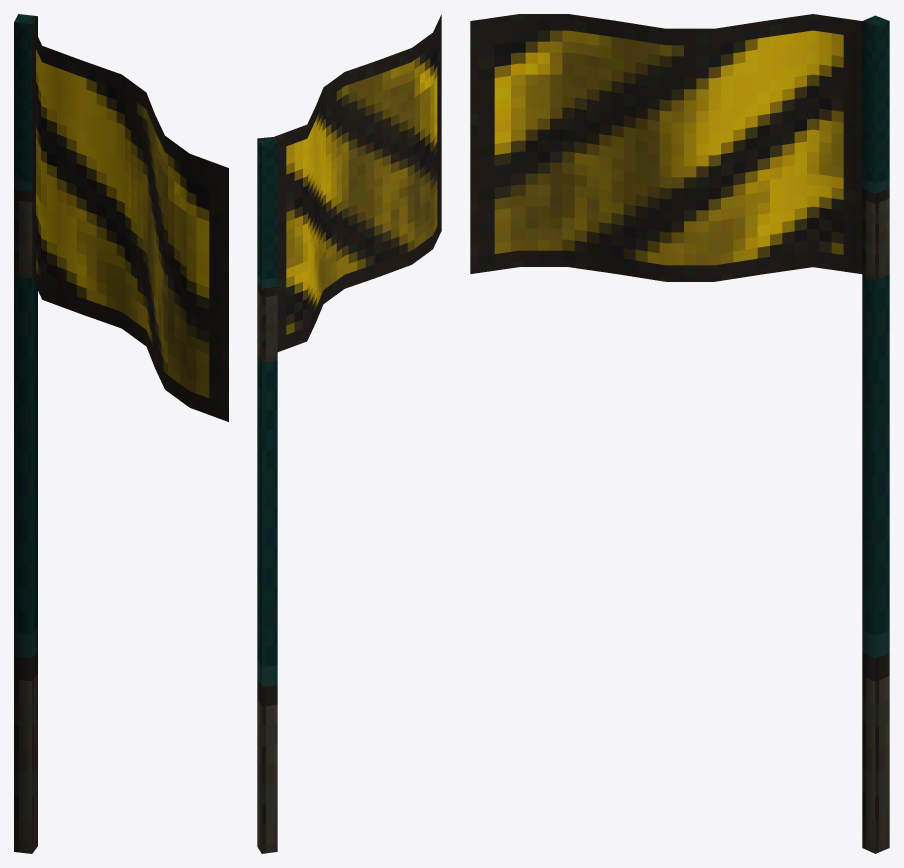
3 renders of one model, left to right at view 1: azimuth 30°, elevation 25°; view 2: azimuth 150°, elevation 25°; view 3: azimuth 270°, elevation 25°, orthographic. The views are drawn at different scales.
Visible parts, largest first — view 1: Hk_obj_028; view 2: Hk_obj_028; view 3: Hk_obj_028.
Boxes of the visible parts, x1,y1,x2,y2 form: Hk_obj_028: [14, 14, 228, 853]; Hk_obj_028: [257, 14, 441, 853]; Hk_obj_028: [470, 14, 889, 853].
Bounding box in the file's own units: 0.0566 × 1.49 × 0.6836.
Materials: 2 (2 with a texture image).
